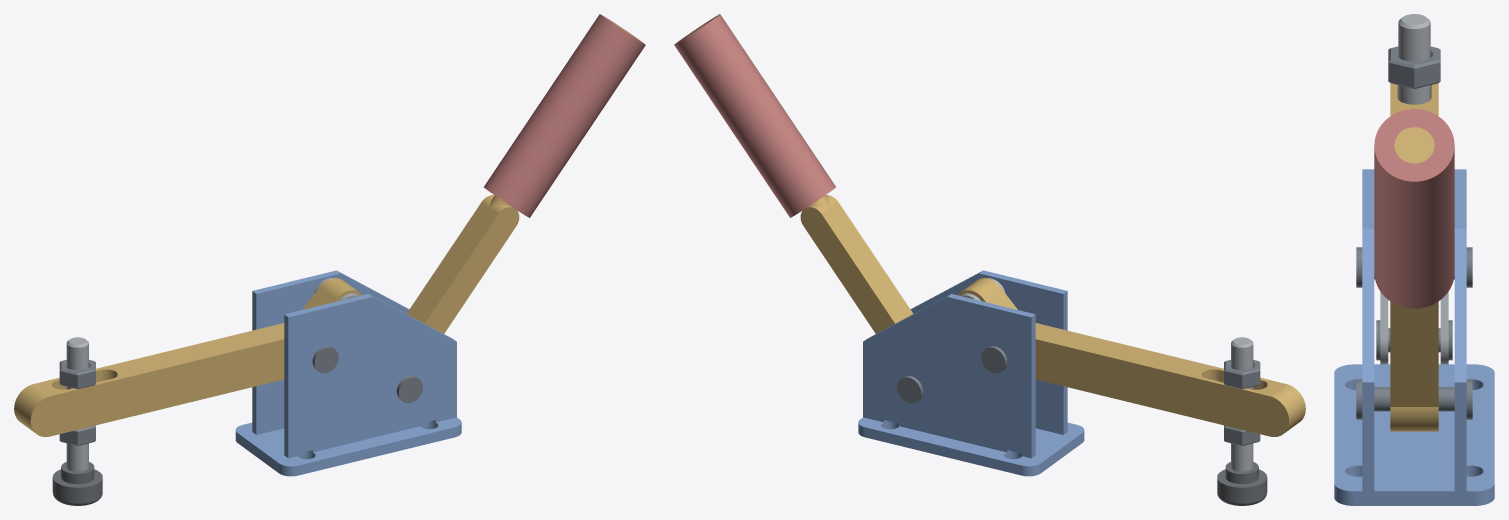
File: step_22.glb
3 renders of one model, left to right at view 1: azimuth 30°, elevation 25°; view 2: azimuth 150°, elevation 25°; view 3: azimuth 270°, elevation 25°, orthographic. The views are drawn at different scales.
Visible parts, largest first — view 1: part__base, part__clamp arm, part__handle grip, part__handle, part__pressure pad, part__spindle M8 x 66, part__nut (upper); view 2: part__base, part__clamp arm, part__handle grip, part__handle, part__pressure pad, part__spindle M8 x 66, part__nut (upper); view 3: part__base, part__handle grip, part__handle, part__spindle M8 x 66, part__nut (upper), part__pivot pin B, part__clamp arm, part__link plate 1, part__link plate 2, part__pivot pin A, part__link pin C.
Part boxes in pixels (left/top/right/bottom): part__base: left=235, top=270, right=461, bottom=476; part__clamp arm: left=14, top=278, right=362, bottom=436; part__handle grip: left=484, top=14, right=645, bottom=217; part__handle: left=406, top=22, right=633, bottom=333; part__pressure pad: left=52, top=462, right=102, bottom=505; part__spindle M8 x 66: left=66, top=337, right=88, bottom=471; part__nut (upper): left=59, top=360, right=95, bottom=389; part__base: left=858, top=270, right=1084, bottom=476; part__clamp arm: left=957, top=278, right=1305, bottom=436; part__handle grip: left=674, top=14, right=835, bottom=217; part__handle: left=686, top=22, right=913, bottom=333; part__pressure pad: left=1217, top=462, right=1267, bottom=505; part__spindle M8 x 66: left=1231, top=337, right=1253, bottom=471; part__nut (upper): left=1224, top=360, right=1260, bottom=389; part__base: left=1334, top=169, right=1494, bottom=505; part__handle grip: left=1374, top=109, right=1454, bottom=308; part__handle: left=1390, top=127, right=1438, bottom=431; part__spindle M8 x 66: left=1398, top=14, right=1430, bottom=104; part__nut (upper): left=1388, top=46, right=1440, bottom=88; part__pivot pin B: left=1356, top=379, right=1472, bottom=419; part__clamp arm: left=1390, top=83, right=1438, bottom=115; part__link plate 1: left=1440, top=292, right=1448, bottom=364; part__link plate 2: left=1380, top=292, right=1388, bottom=364; part__pivot pin A: left=1356, top=247, right=1472, bottom=287; part__link pin C: left=1376, top=320, right=1452, bottom=360.
Bounding box in the file's own units: 257 × 141 × 40.
